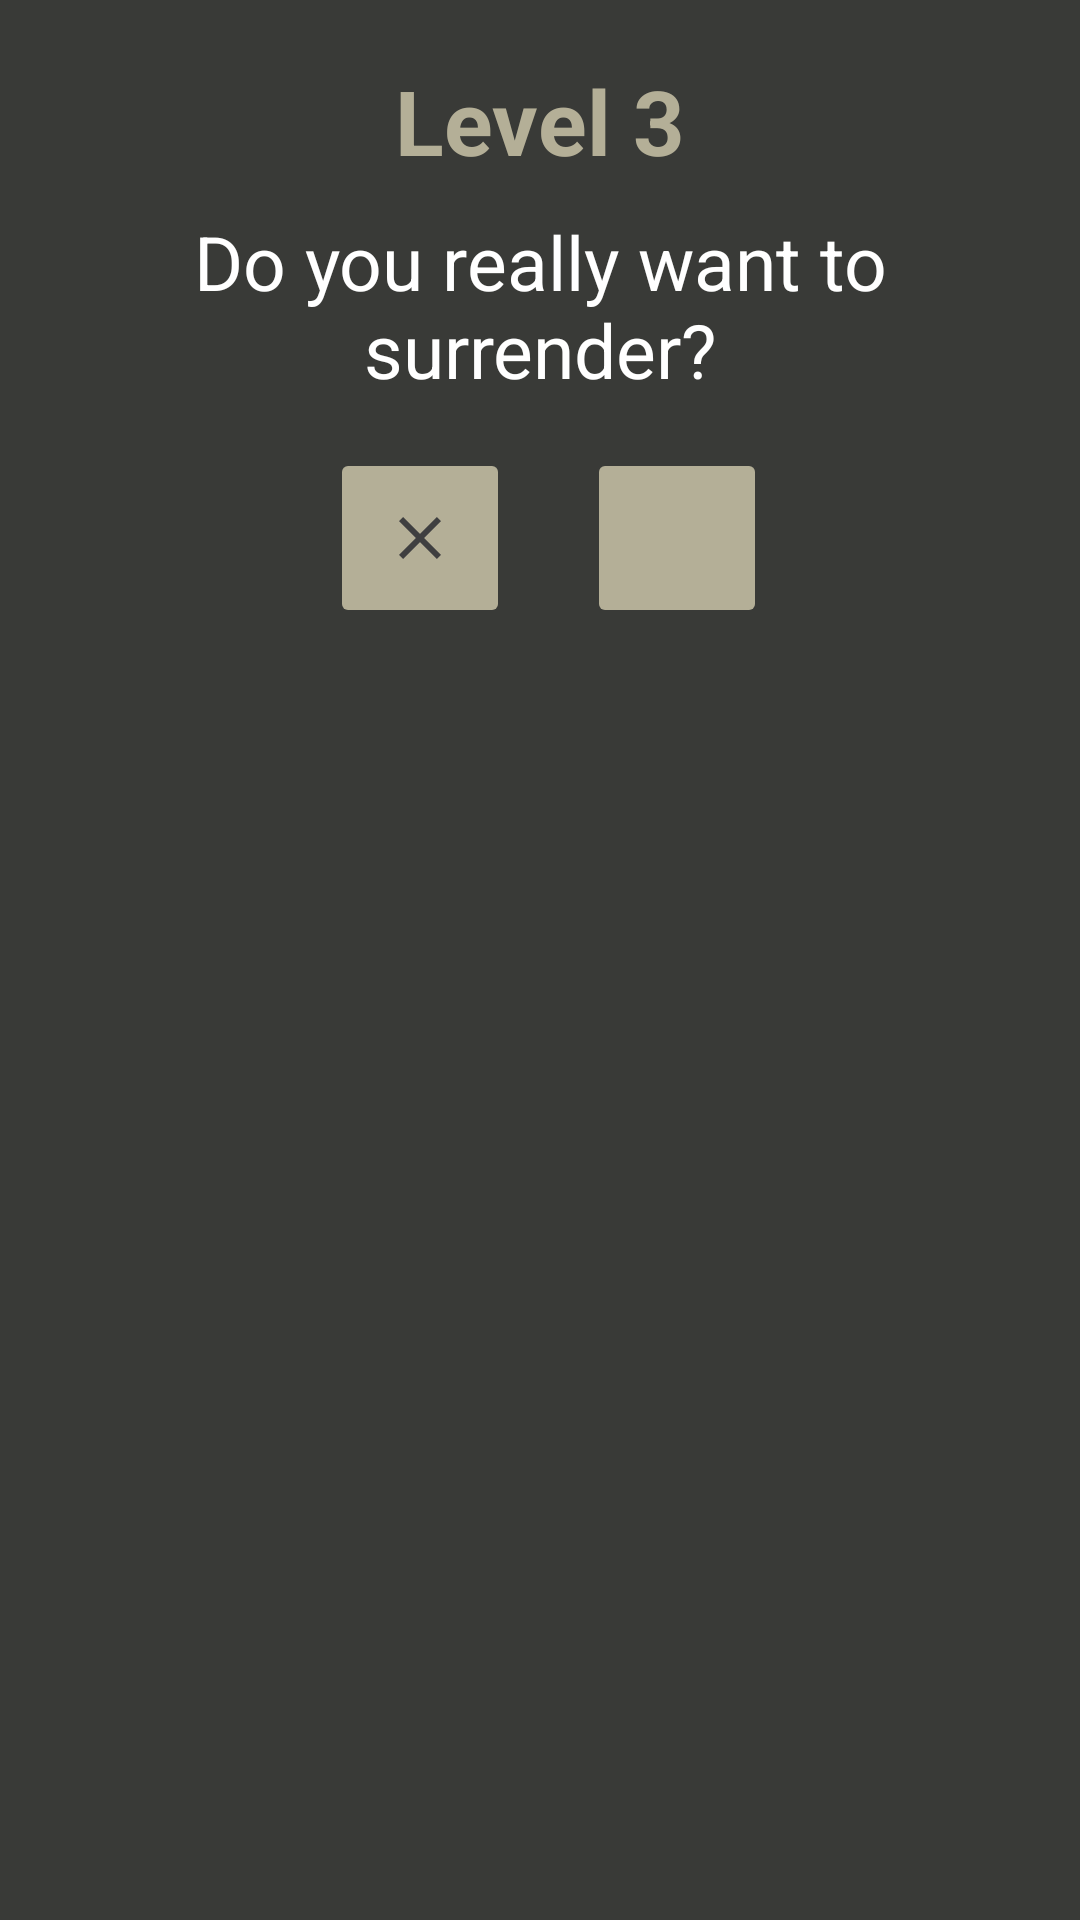

Named icons in this screenshot (1080 × 1920) and their centers, [x,y]:
clear: [420,538]
